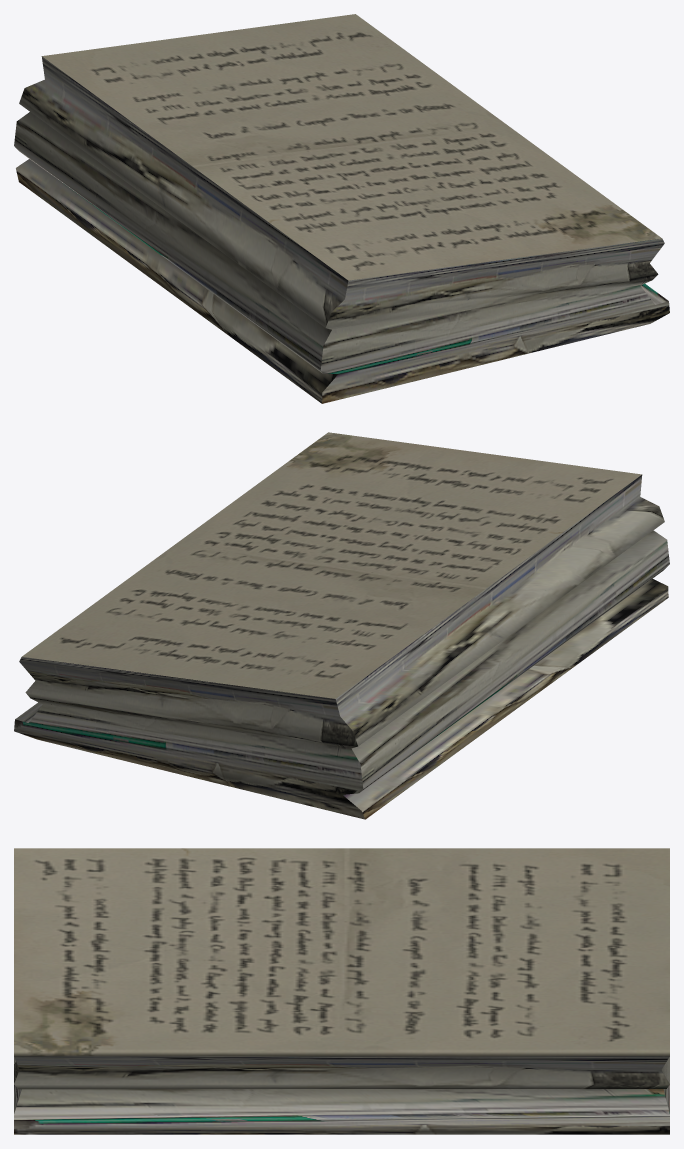
Rendered from 070_document02a.fbx.
3 renders of one model, top to bottom at view 1: azimuth 30°, elevation 25°; view 2: azimuth 150°, elevation 25°; view 3: azimuth 270°, elevation 25°, orthographic. The views are drawn at different scales.
Parts seen in each view (by area): view 1: LOD_1_Group_0_Sub_1__sm36_070_Document02A_A_Mat; view 2: LOD_1_Group_0_Sub_1__sm36_070_Document02A_A_Mat; view 3: LOD_1_Group_0_Sub_1__sm36_070_Document02A_A_Mat.
Boxes of the visible parts, x1=… form: LOD_1_Group_0_Sub_1__sm36_070_Document02A_A_Mat: x1=14, y1=14, x2=669, y2=403; LOD_1_Group_0_Sub_1__sm36_070_Document02A_A_Mat: x1=14, y1=432, x2=669, y2=819; LOD_1_Group_0_Sub_1__sm36_070_Document02A_A_Mat: x1=14, y1=848, x2=669, y2=1134.
Bounding box in the file's own units: 0.2058 × 0.0658 × 0.3129.
